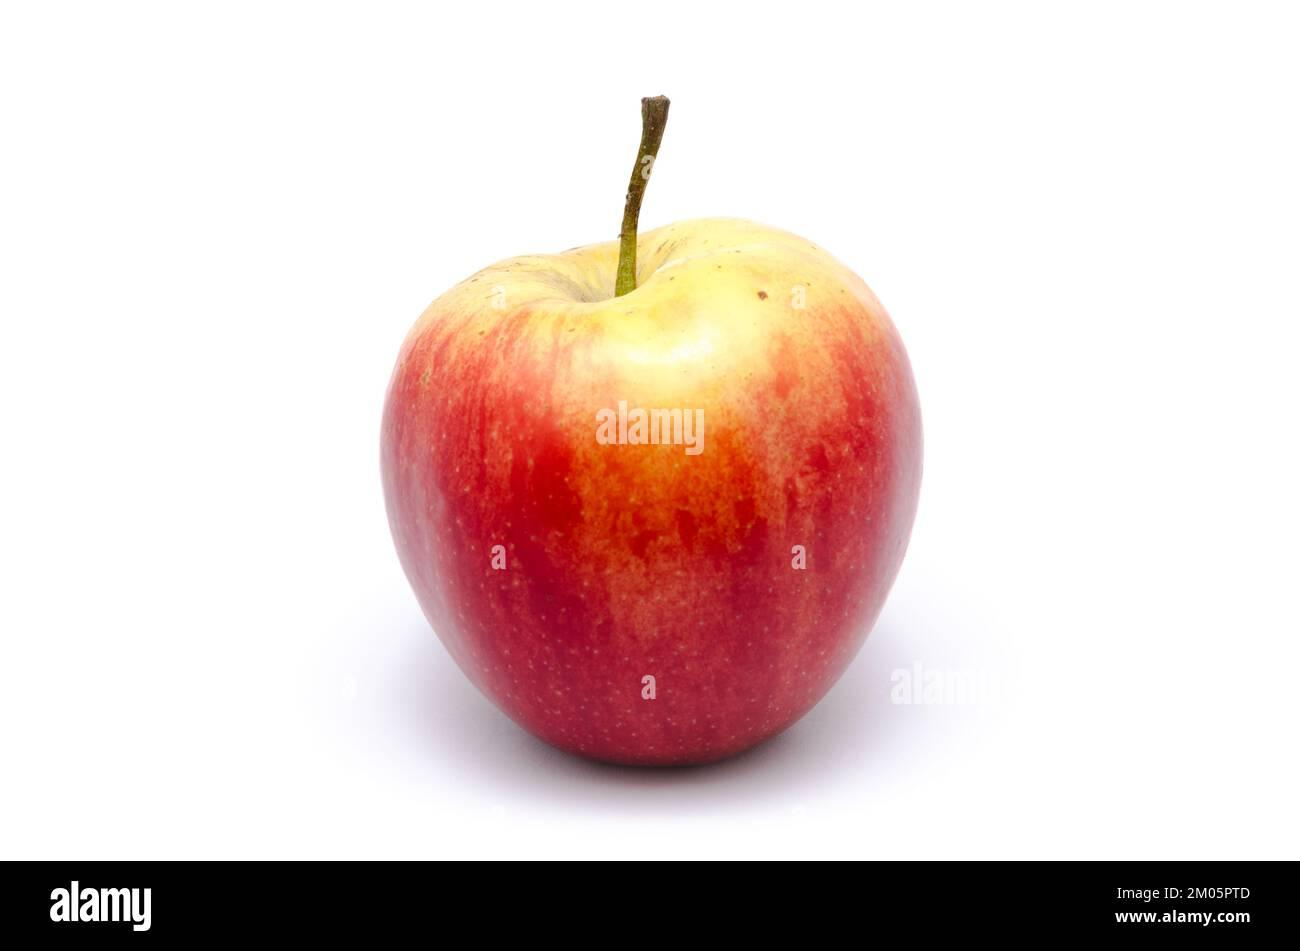Apple: (345, 168, 1017, 785)
